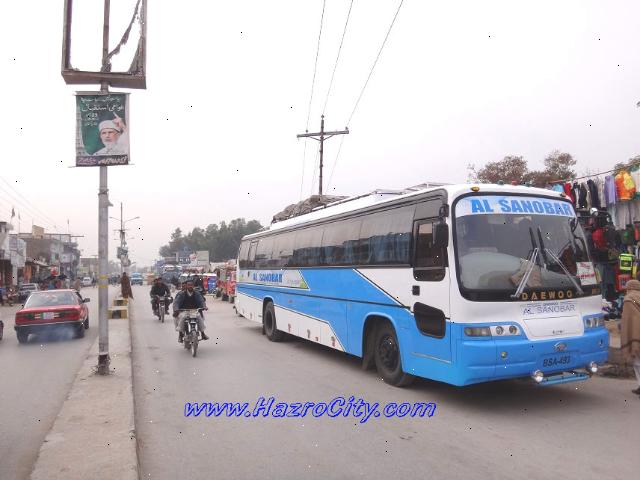Bus: (229, 182, 621, 392)
